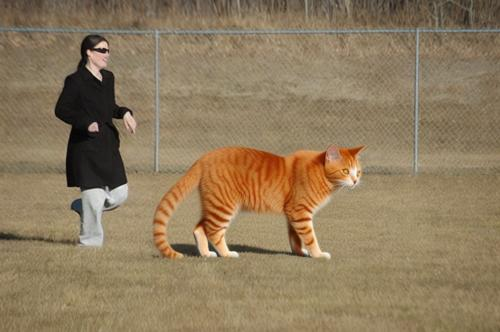cat: (153, 145, 366, 257)
person: (54, 34, 139, 248)
person/hand: (123, 113, 138, 137), (88, 123, 100, 134)
person/head: (83, 37, 113, 72)
